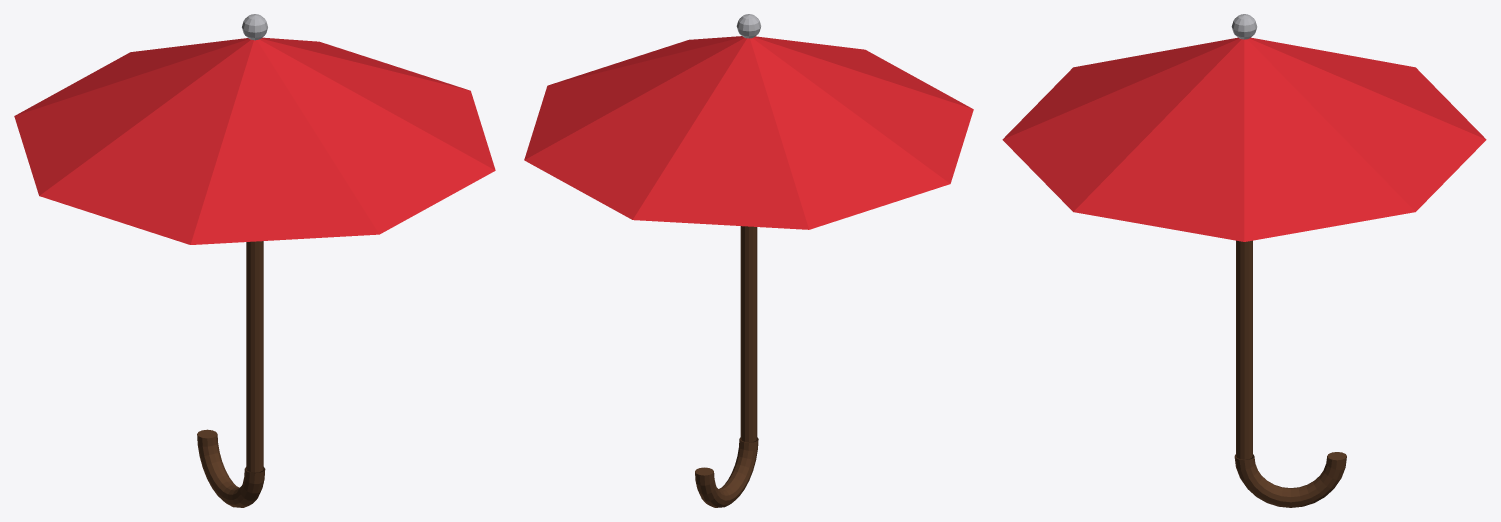
The model's file is Umbrella.fbx.
The picture shows the model from 3 angles, left to right: view 1: azimuth 30°, elevation 25°; view 2: azimuth 150°, elevation 25°; view 3: azimuth 270°, elevation 25°; orthographic projection. The views are drawn at different scales.
Parts seen in each view (by area): view 1: Canopy, Shaft, Hook, Tip; view 2: Canopy, Shaft, Hook; view 3: Canopy, Shaft, Hook.
Part boxes in pixels (box(x1,y1,x2,y2)): Canopy: box(14, 37, 495, 244); Shaft: box(246, 241, 263, 472); Hook: box(197, 429, 265, 507); Tip: box(242, 14, 267, 40); Canopy: box(524, 36, 973, 229); Shaft: box(740, 226, 757, 442); Hook: box(695, 437, 758, 507); Canopy: box(1002, 37, 1486, 241); Shaft: box(1236, 240, 1252, 459); Hook: box(1234, 452, 1346, 507).
Size of the model in its own units: 68 by 76.2 by 68.
Materials: 3 (3 with a texture image).
